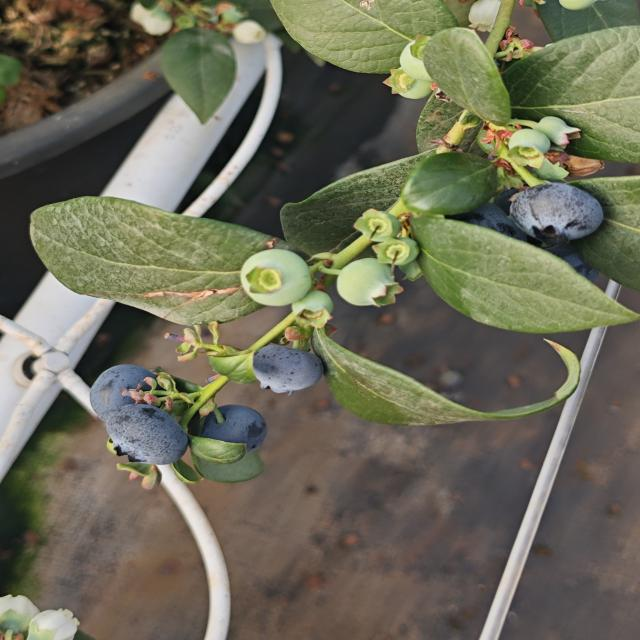ripe: (506, 180, 606, 249), (97, 398, 188, 464), (86, 362, 172, 422), (247, 342, 326, 397), (197, 402, 269, 454)
